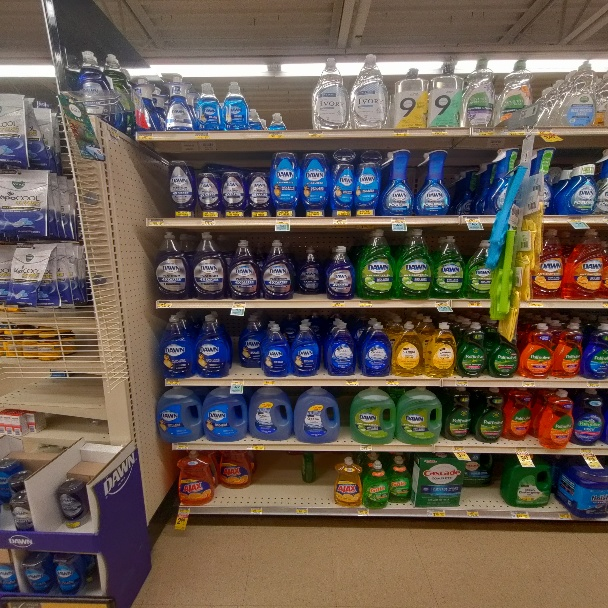All PRICE TAGS: (148, 218, 164, 226), (267, 132, 283, 139), (138, 132, 154, 139), (343, 378, 359, 385), (308, 132, 323, 139), (275, 219, 290, 226), (232, 301, 247, 308), (430, 128, 447, 134), (333, 218, 347, 225), (250, 506, 264, 513), (295, 507, 309, 514), (194, 132, 210, 138), (393, 129, 409, 135), (435, 300, 451, 306), (248, 442, 264, 448), (202, 219, 217, 225), (391, 218, 406, 224), (174, 443, 189, 449), (331, 301, 345, 307), (359, 444, 373, 450), (356, 509, 369, 515)
